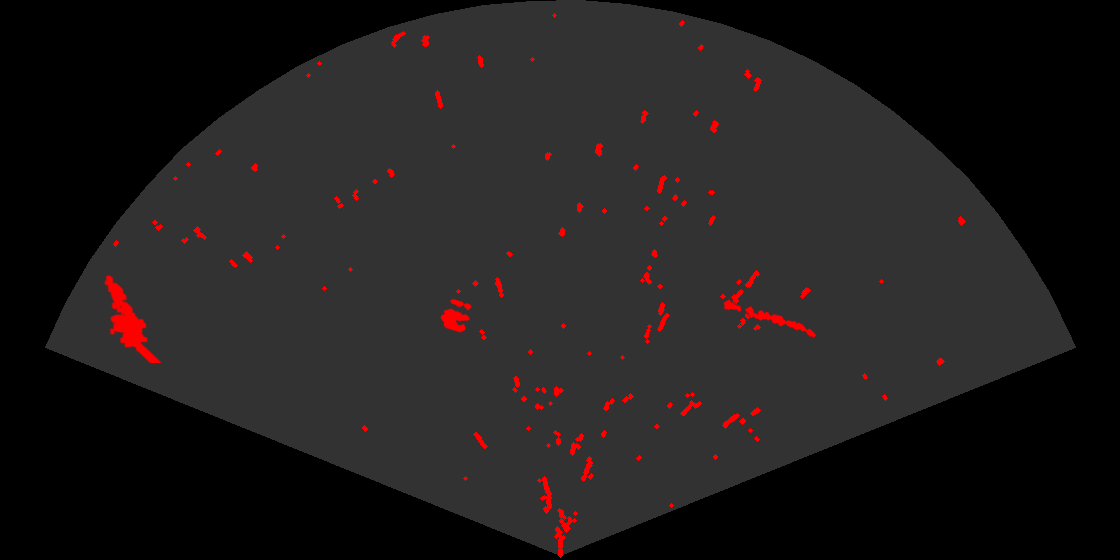ball: (439, 297, 473, 334)
chain: (721, 298, 818, 339)
frogman: (103, 273, 163, 363)
